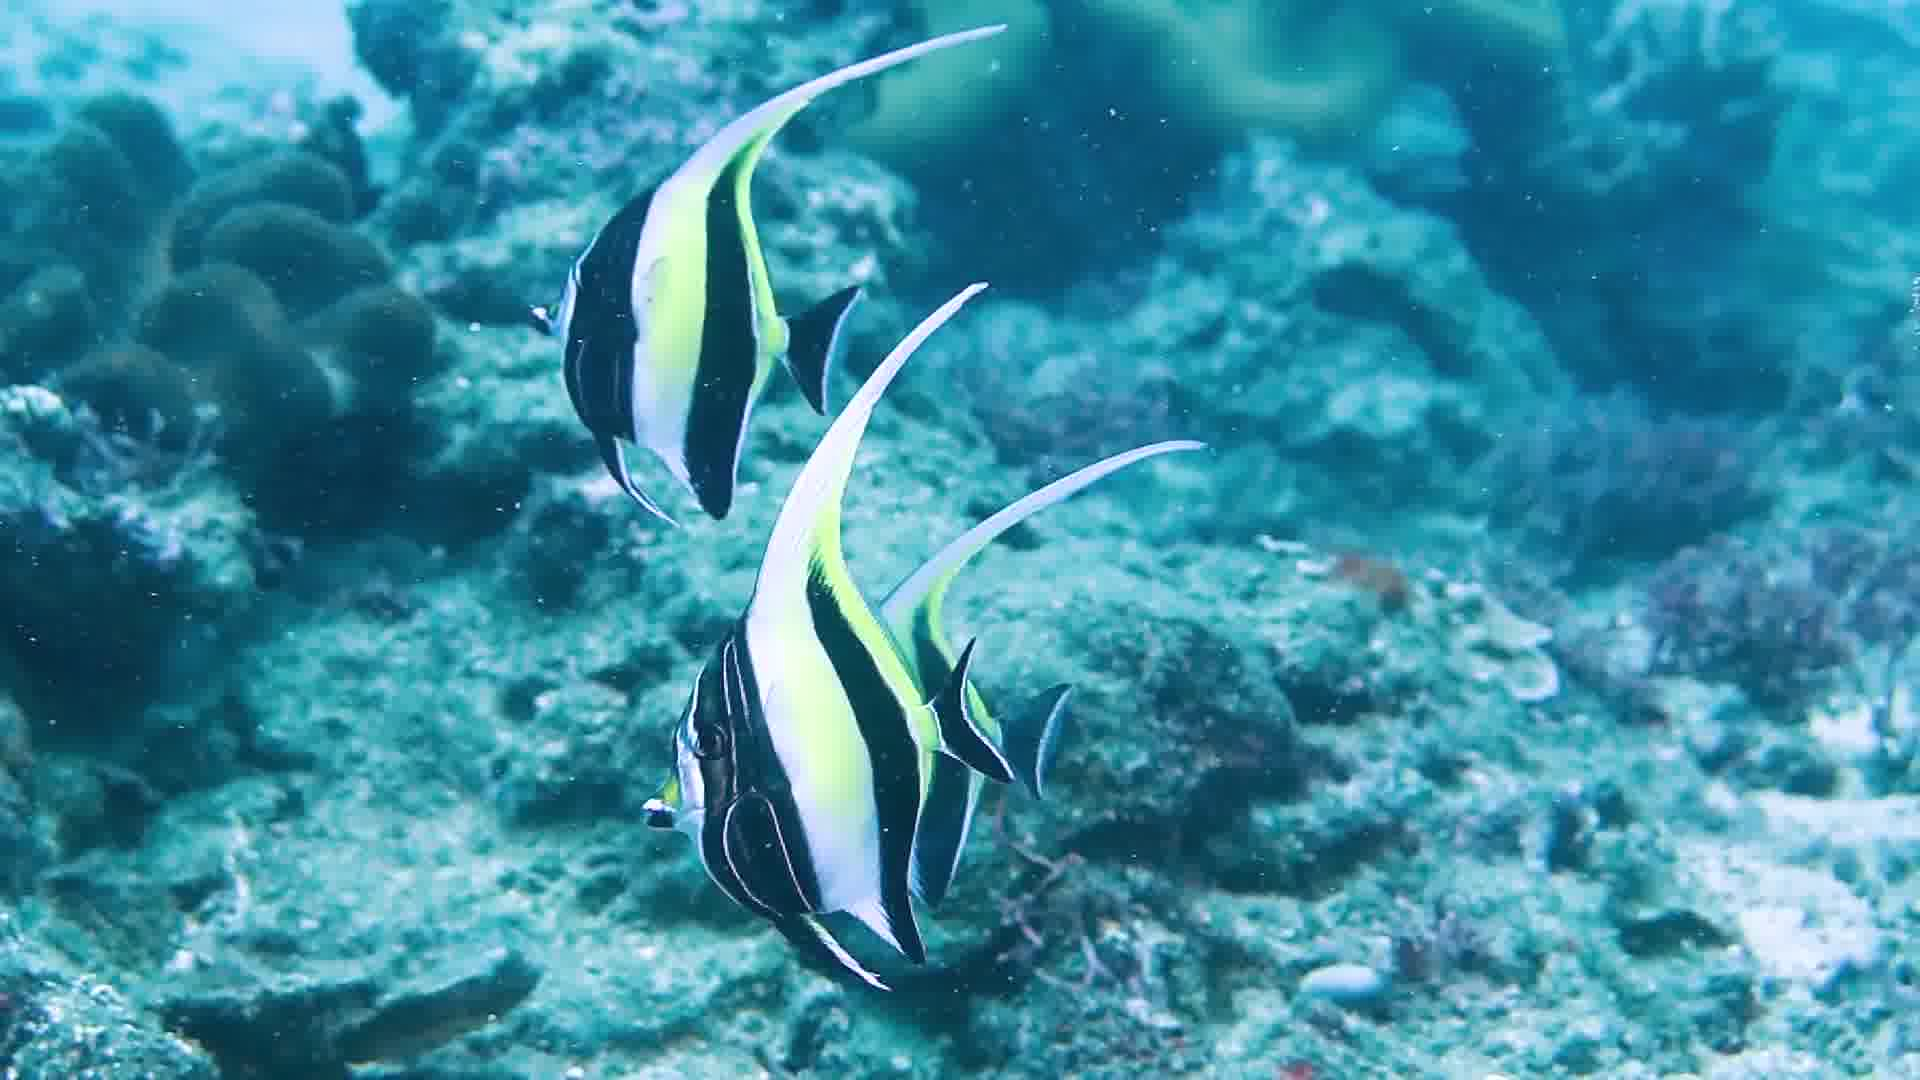Zanclus cornutus: (655, 527, 952, 988), (529, 61, 825, 520)
